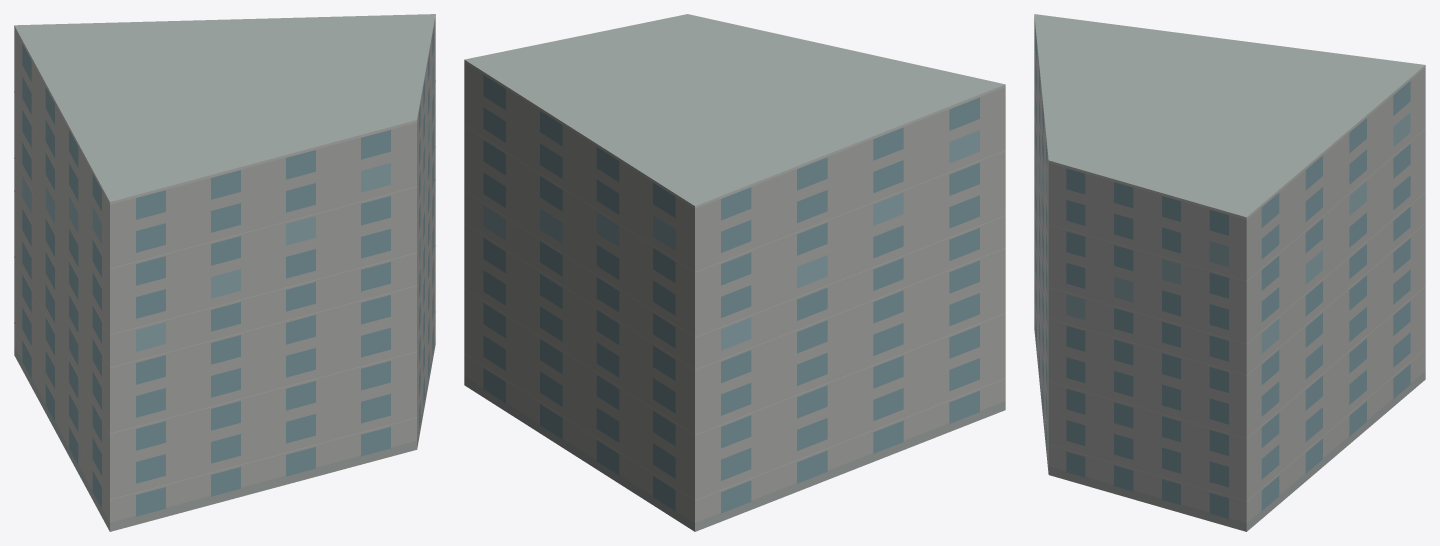
File: survey-upis-32841603.glb
The picture shows the model from 3 angles, left to right: view 1: azimuth 30°, elevation 25°; view 2: azimuth 150°, elevation 25°; view 3: azimuth 270°, elevation 25°; orthographic projection. The views are drawn at different scales.
Visible parts, largest first — view 1: survey-upis-32841603.tmp; view 2: survey-upis-32841603.tmp; view 3: survey-upis-32841603.tmp.
Boxes of the visible parts, x1,y1,x2,y2 form: survey-upis-32841603.tmp: [14, 14, 435, 531]; survey-upis-32841603.tmp: [464, 14, 1005, 531]; survey-upis-32841603.tmp: [1034, 14, 1425, 531].
Size of the model in its own units: 42.31 by 30.5 by 34.41.
